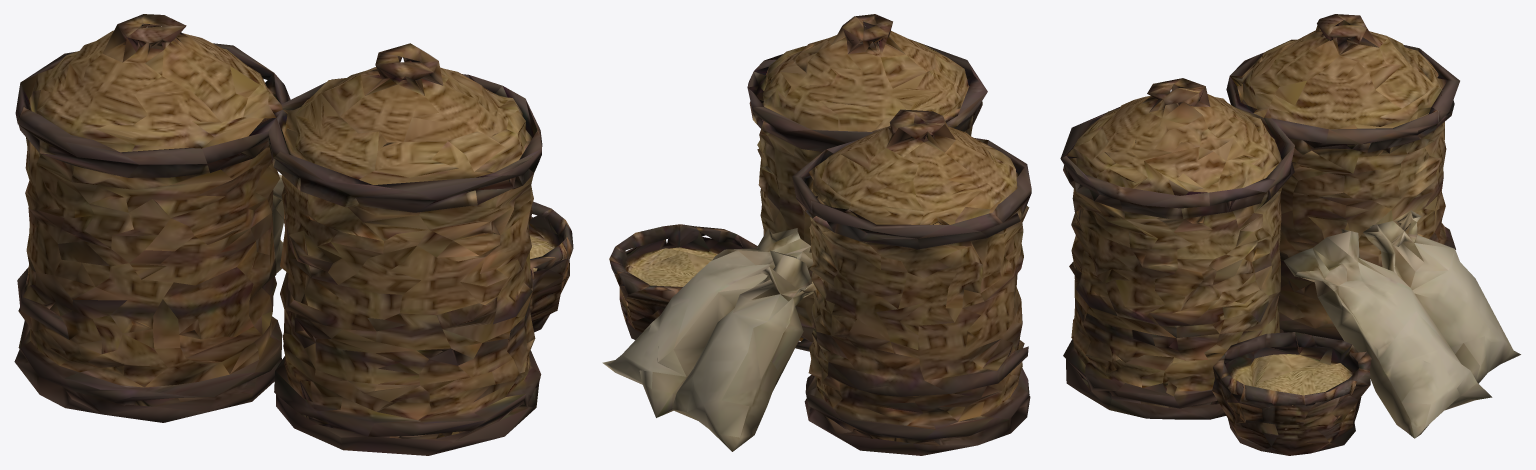
Rendered from grain-bins.glb.
The picture shows the model from 3 angles, left to right: view 1: azimuth 30°, elevation 25°; view 2: azimuth 150°, elevation 25°; view 3: azimuth 270°, elevation 25°; orthographic projection. The views are drawn at different scales.
Visible parts, largest first — view 1: tripo_node_6c3c735d-8c3c-4703-b1d8-87c0ee41ff4f; view 2: tripo_node_6c3c735d-8c3c-4703-b1d8-87c0ee41ff4f; view 3: tripo_node_6c3c735d-8c3c-4703-b1d8-87c0ee41ff4f.
Part boxes in pixels (x1,y1,x2,y2): tripo_node_6c3c735d-8c3c-4703-b1d8-87c0ee41ff4f: (14,14,573,455); tripo_node_6c3c735d-8c3c-4703-b1d8-87c0ee41ff4f: (602,14,1031,455); tripo_node_6c3c735d-8c3c-4703-b1d8-87c0ee41ff4f: (1060,14,1520,455).
Bounding box in the file's own units: 1.94 × 1.3 × 1.85.
Materials: 1 (1 with a texture image).
